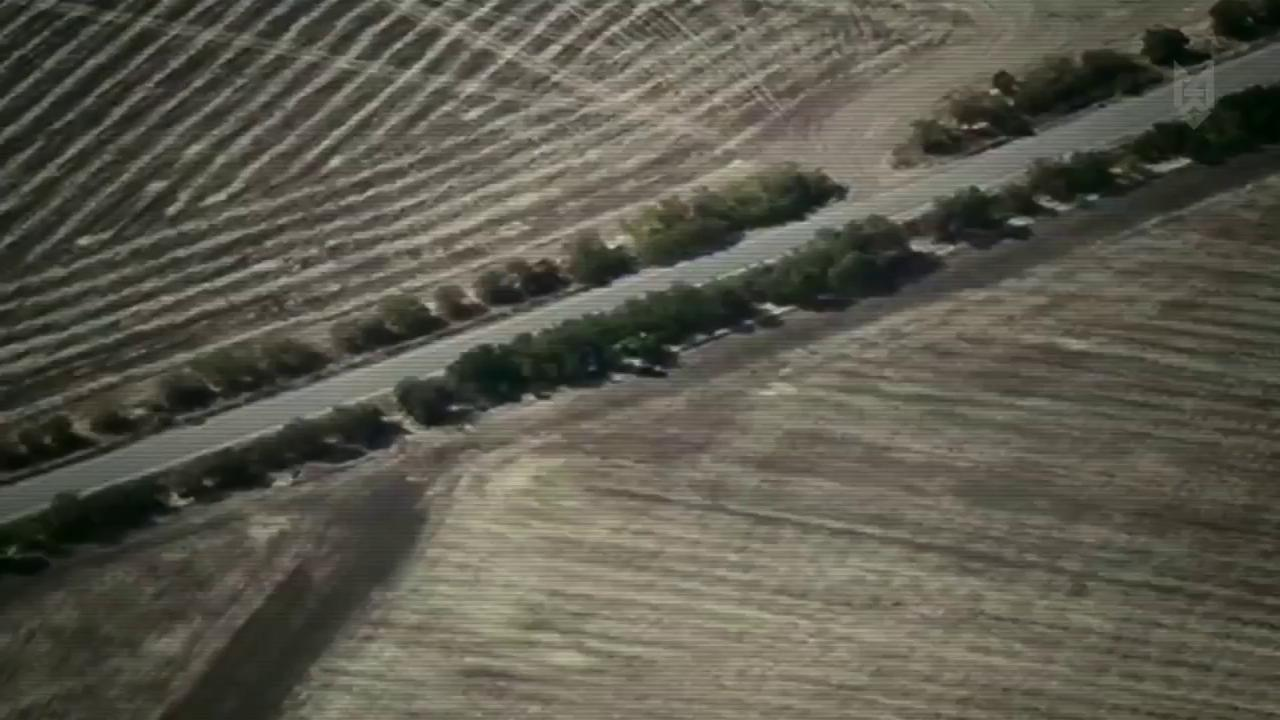tank: (602, 356, 677, 384)
